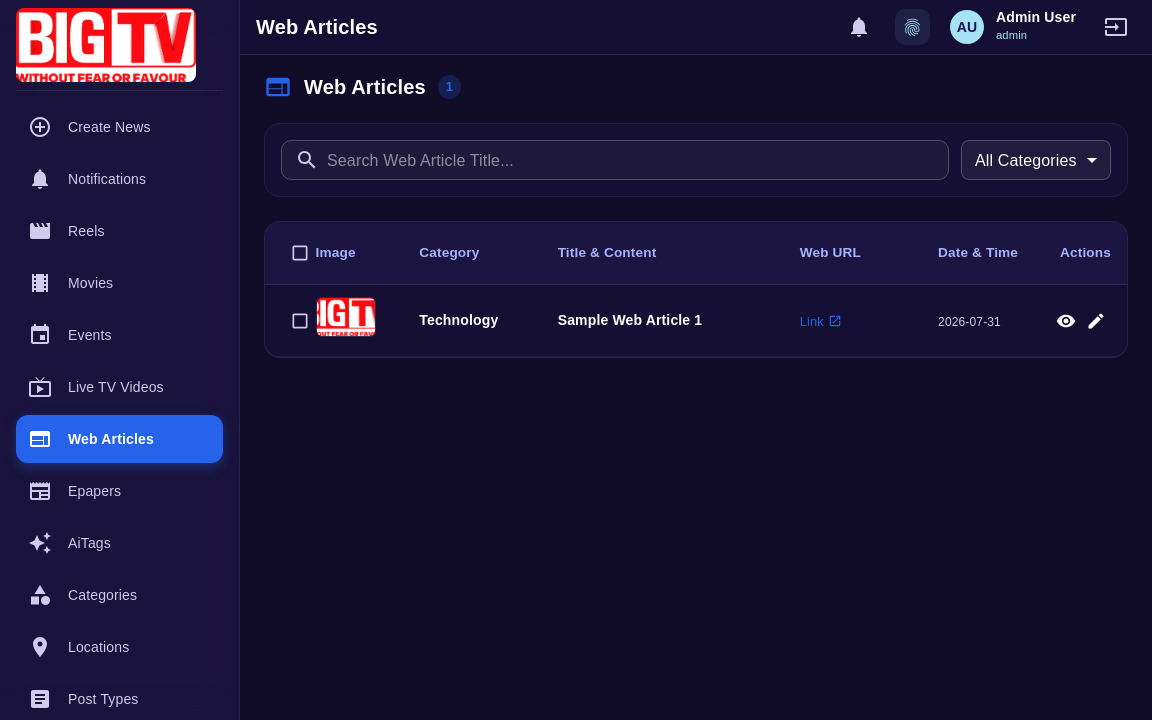
Scenario: WebArticlesPage Component › filters articles by search term
Expected: the text "Sample Web Article 1" is shown, [558,312,702,328]
Type "Nonexistent" into the field with placeholder "Search Web Article Title...".
click(638, 160); type("Nonexistent")  # box [327,140,949,180]
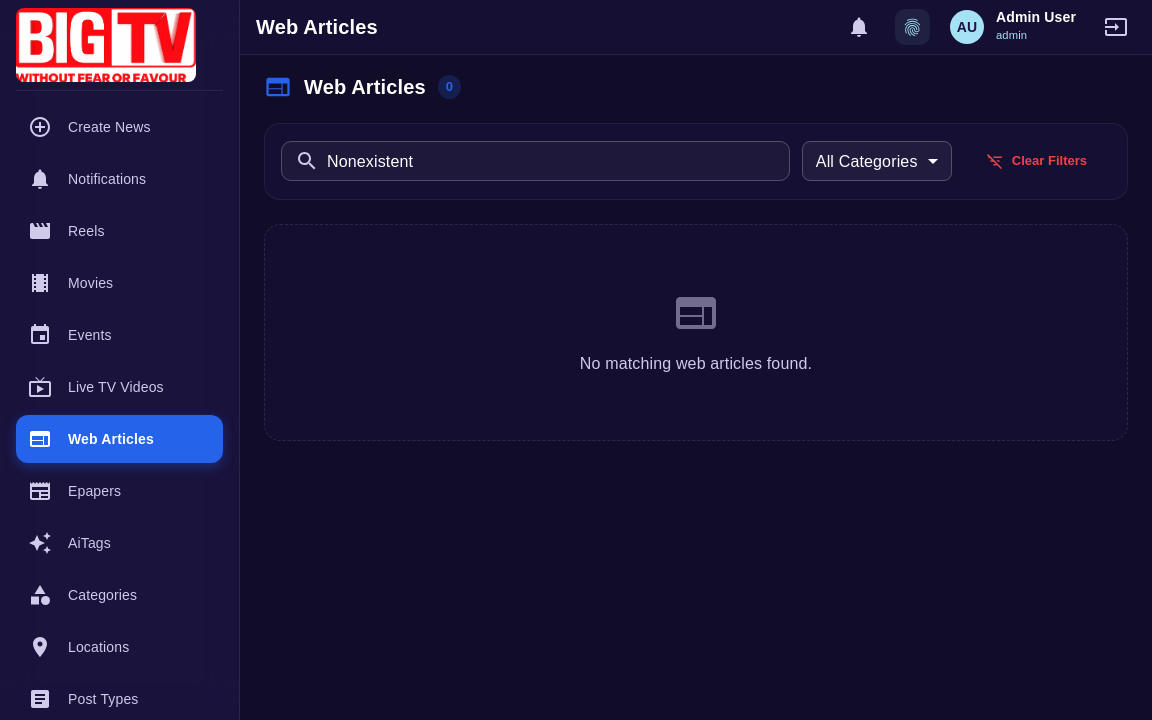
Expected: the text "Sample Web Article 1" is gone
Expected: the text "No matching web articles found." is shown, [580,355,812,372]
